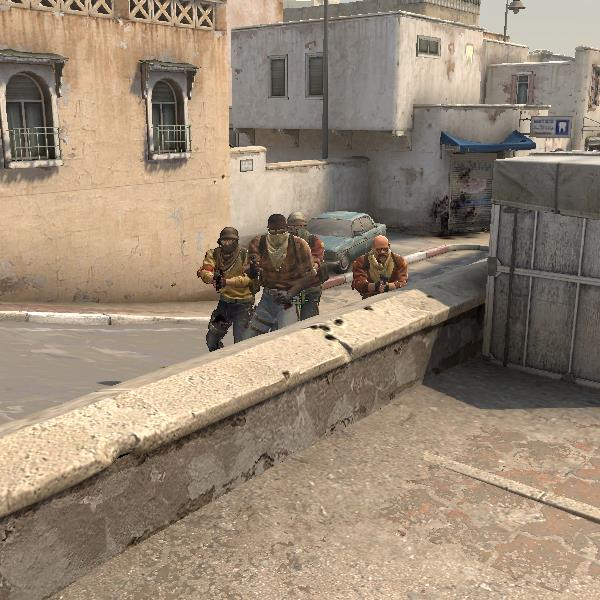t_body: (344, 230, 417, 296)
t_head: (366, 233, 399, 265)
